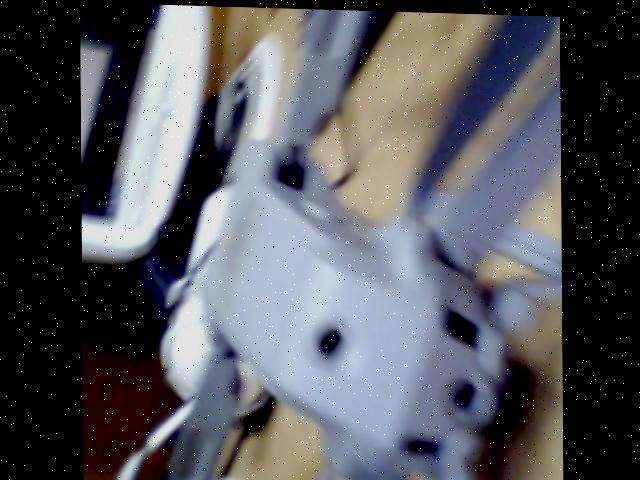drone: (104, 2, 562, 480)
